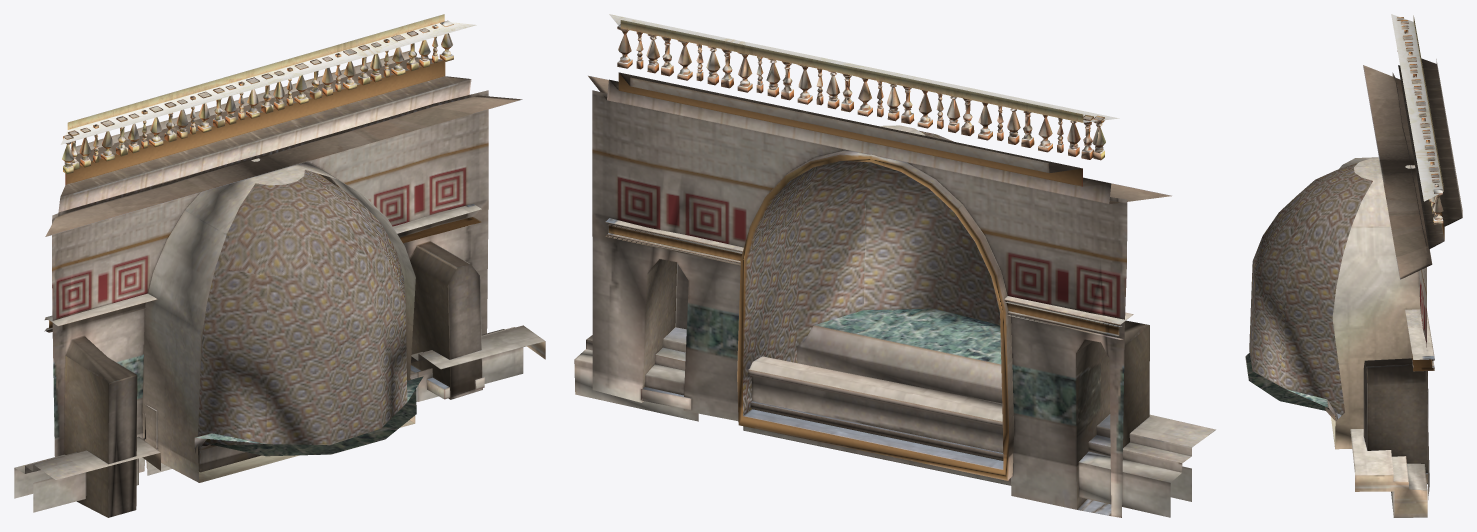
Rendered from Wall02.gltf.
3 renders of one model, left to right at view 1: azimuth 30°, elevation 25°; view 2: azimuth 150°, elevation 25°; view 3: azimuth 270°, elevation 25°, orthographic. The views are drawn at different scales.
Parts seen in each view (by area): view 1: Wall02; view 2: Wall02; view 3: Wall02.
Boxes of the visible parts, x1,y1,x2,y2 form: Wall02: (14,14,545,517); Wall02: (574,14,1215,517); Wall02: (1245,14,1462,517).
Bounding box in the file's own units: 18 × 12.1 × 7.46.
Materials: 2 (2 with a texture image).
